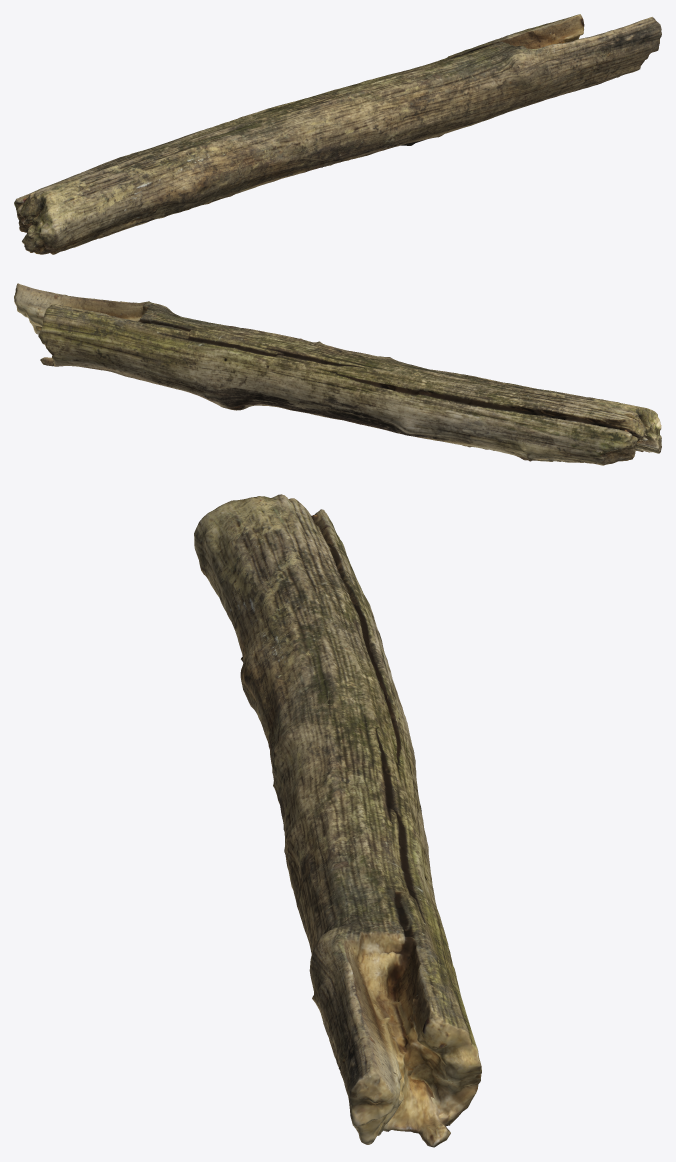
File: wood_stick_06.FBX
3 views of the same model, one above another, from view 1: azimuth 30°, elevation 25°; view 2: azimuth 150°, elevation 25°; view 3: azimuth 270°, elevation 25° (orthographic). The views are drawn at different scales.
Visible parts, largest first — view 1: wood_stick_06; view 2: wood_stick_06; view 3: wood_stick_06.
Part boxes in pixels (x1,y1,x2,y2): wood_stick_06: (14, 14, 661, 254); wood_stick_06: (14, 283, 661, 465); wood_stick_06: (194, 494, 481, 1147).
Bounding box in the file's own units: 44.89 × 9.07 × 5.12.
Materials: 1 (1 with a texture image).
